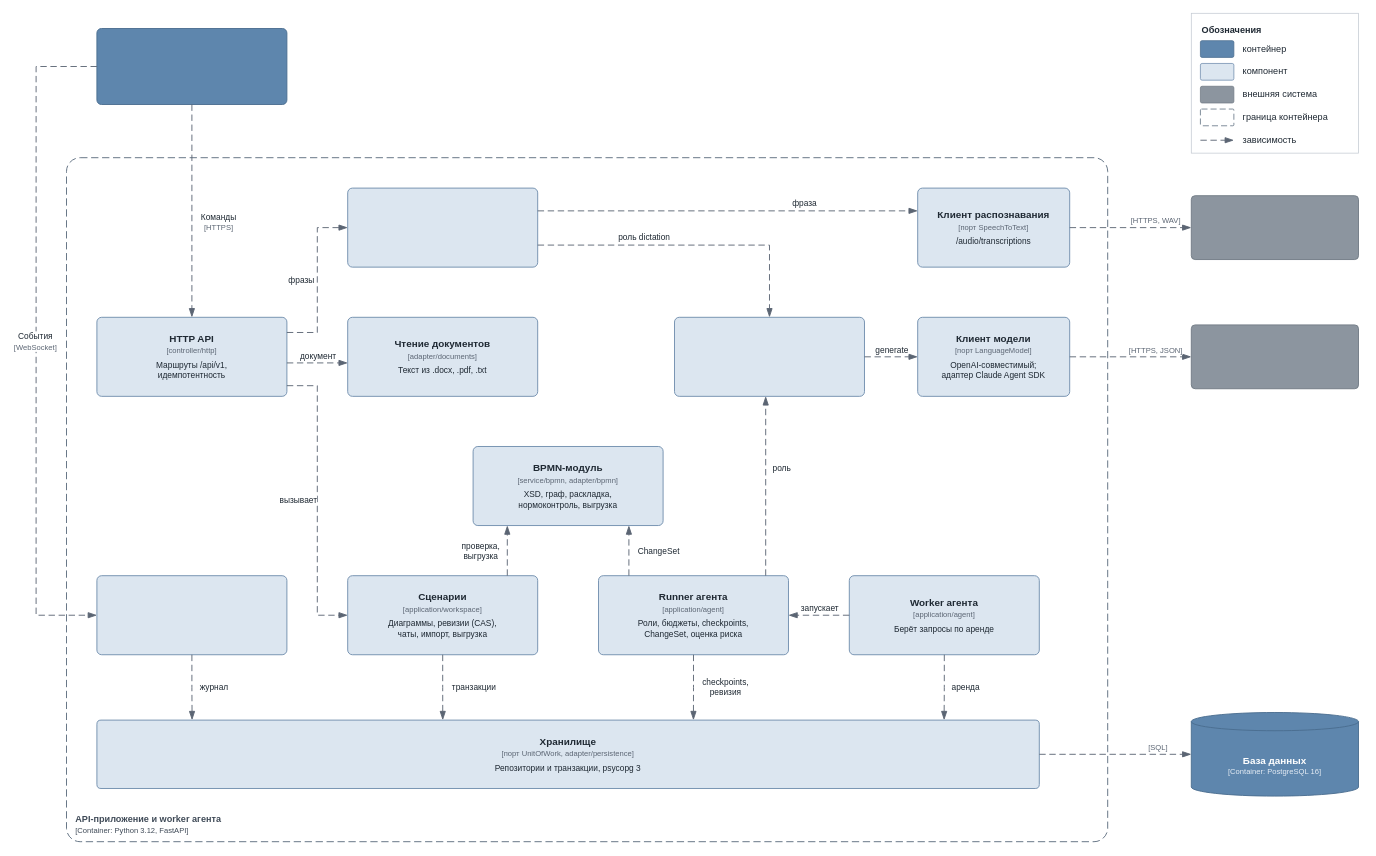
Some shapes in this 1376 by 856 pixel diagram are drawn without their labels. Each missing label, with the centre of its shape:
Веб-приложение [Container: React 19, bpmn-js 18] через nginx /api: the point at 191,66
Диктовка [application/dictation] Фраза → текст → черновик: the point at 442,227
Поток событий [controller/ws] Прогресс, черновик, ревизии: the point at 191,615
Провайдер языковой модели [внешняя система]: the point at 1274,356
Роли агента [adapter/agents] Промпты и JSON-схемы: intent, entities, flow…: the point at 769,356
Сервис распознавания речи [внешняя система]: the point at 1274,227
